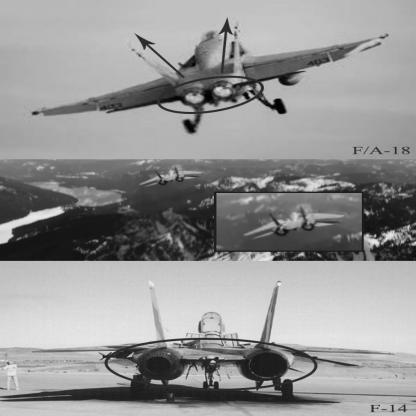F14: (24, 280, 408, 398), (243, 207, 347, 242), (139, 167, 204, 189)
F18: (32, 21, 391, 135)
